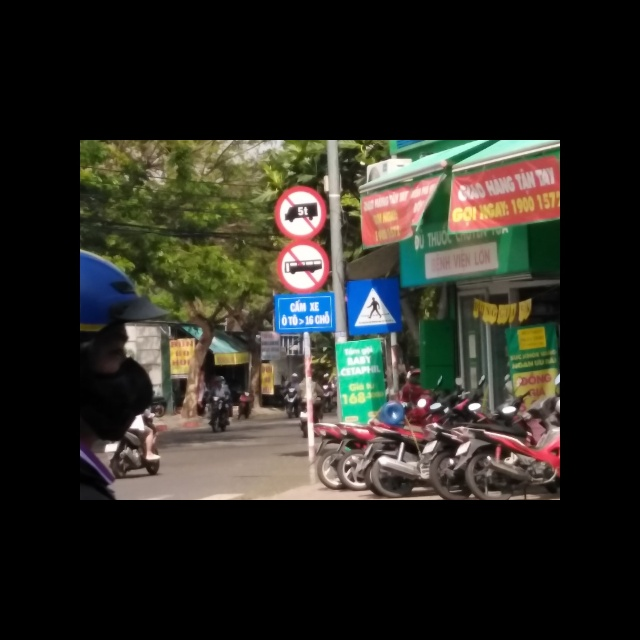Cấm xe tải: (274, 186, 325, 241)
Cấm xe xe khách: (275, 241, 329, 292)
Đường dành cho người đi bộ: (347, 279, 403, 334)
